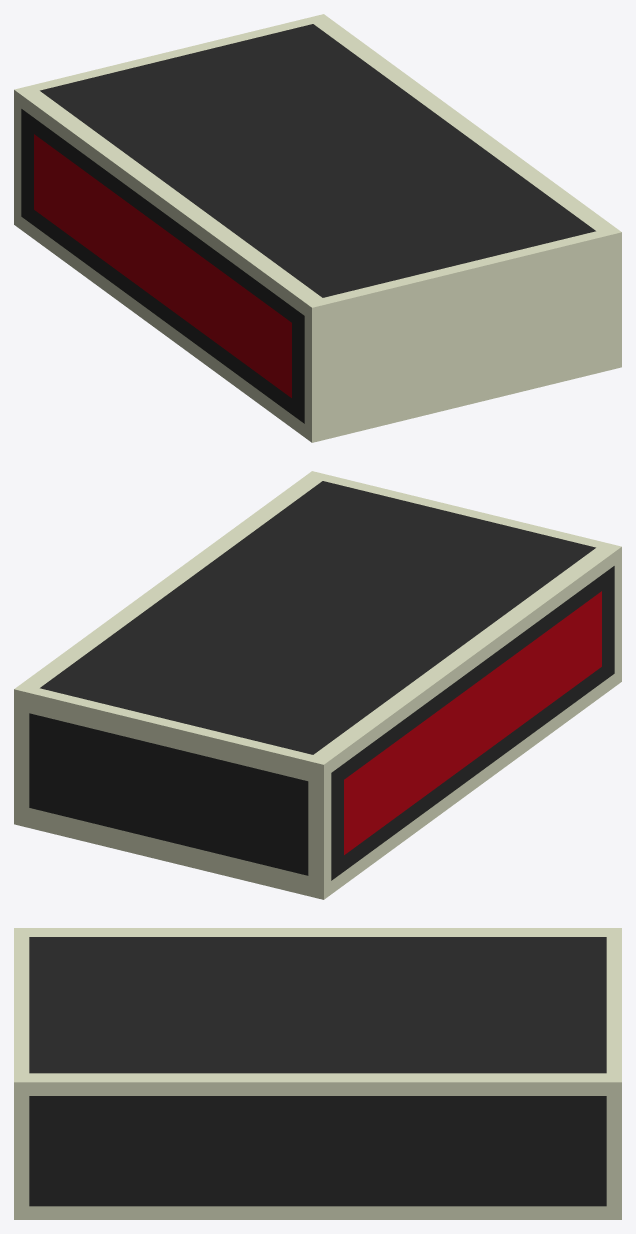
Rendered from matchBox.fbx.
3 renders of one model, top to bottom at view 1: azimuth 30°, elevation 25°; view 2: azimuth 150°, elevation 25°; view 3: azimuth 270°, elevation 25°, orthographic.
Visible parts, largest first — view 1: Cube; view 2: Cube; view 3: Cube.
Part boxes in pixels (bbox=[...]): Cube: bbox=[14, 14, 621, 442]; Cube: bbox=[14, 471, 621, 899]; Cube: bbox=[14, 928, 621, 1219].
Bounding box in the file's own units: 48 × 20 × 80.
